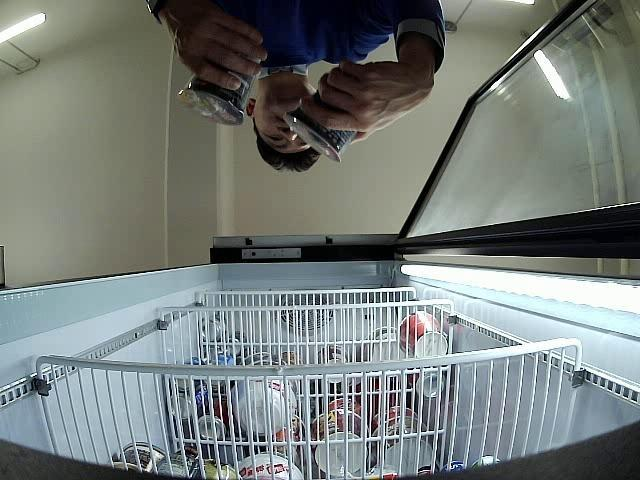08_buldak_S: (178, 55, 260, 125), (285, 91, 357, 162)
